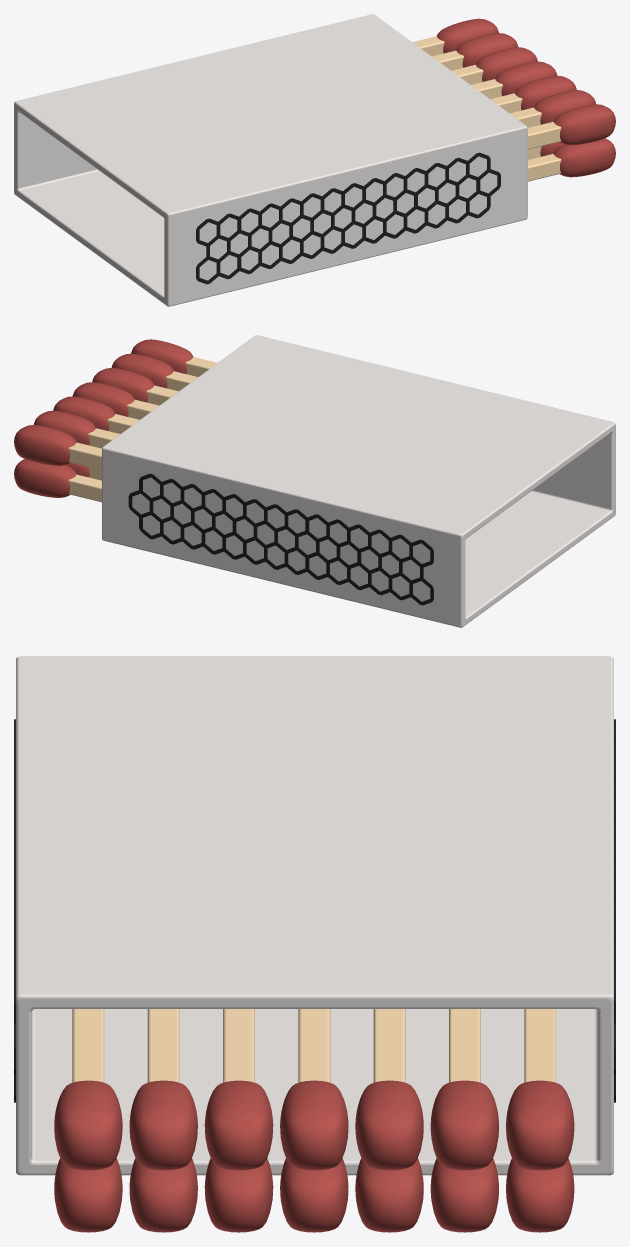
The model's file is matchbox.glb.
The picture shows the model from 3 angles, top to bottom: view 1: azimuth 30°, elevation 25°; view 2: azimuth 150°, elevation 25°; view 3: azimuth 270°, elevation 25°; orthographic projection. The views are drawn at different scales.
Parts seen in each view (by area): view 1: Cube, Cube.002, HoneyComb.003; view 2: Cube, Cube.002, HoneyComb.003; view 3: Cube, Cube.002, HoneyComb.003.
Part boxes in pixels (x1,y1,x2,y2): Cube: (14, 14, 527, 306); Cube.002: (412, 18, 615, 181); HoneyComb.003: (196, 152, 500, 284); Cube: (102, 335, 615, 627); Cube.002: (14, 339, 217, 502); HoneyComb.003: (128, 473, 433, 605); Cube: (16, 656, 613, 1175); Cube.002: (54, 1009, 574, 1232); HoneyComb.003: (14, 719, 615, 1102).
Bounding box in the file's own units: 0.0651 × 0.0125 × 0.0377.
